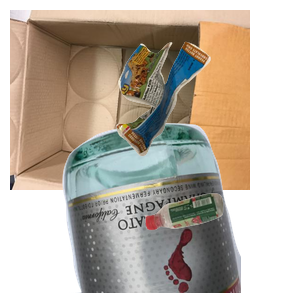cardboard: (10, 10, 250, 190)
glass: (60, 120, 300, 300)
plastic: (142, 191, 300, 300)
trash: (114, 39, 300, 188)
